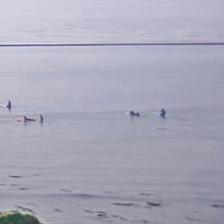surfer: (23, 116, 35, 122), (129, 110, 140, 116), (160, 108, 166, 118), (7, 100, 12, 109), (40, 115, 43, 122)
